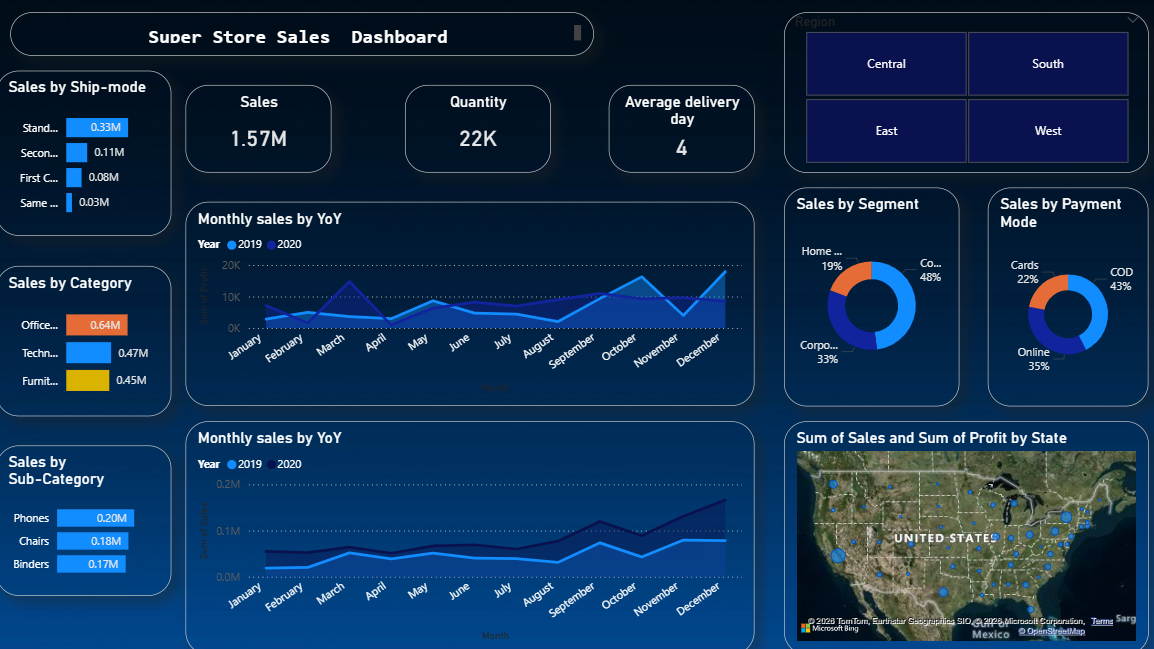

Layout of this report page (visuals, bound fields, positions):
{"tool":"powerbi","page":{"name":"Sales Dashboard","canvas":[1280,720],"ordinal":0},"visuals":[{"type":"clusteredBarChart","title":"Sales by Category","fields":{"Category":["SuperStore Sales DataSet.Category"],"Y":["Sum(SuperStore Sales DataSet.Sales)"]},"box":[0,293.9,192,164.6],"z":0,"group":"g1"},{"type":"clusteredBarChart","title":"Sales by Sub-Category","fields":{"Category":["SuperStore Sales DataSet.Sub-Category"],"Y":["Sum(SuperStore Sales DataSet.Sales)"]},"box":[0,491.4,192,164.6],"z":1000,"group":"g1"},{"type":"clusteredBarChart","title":"Sales by Ship-mode","fields":{"Category":["SuperStore Sales DataSet.Ship Mode"],"Y":["Sum(SuperStore Sales DataSet.Sales)"]},"box":[0,80,192,181],"z":2000,"group":"g1"},{"type":"areaChart","title":"Monthly sales by YoY","fields":{"Category":["SuperStore Sales DataSet.Order Date.Variation.Date Hierarchy.Month"],"Series":["SuperStore Sales DataSet.Order Date.Variation.Date Hierarchy.Year"],"Y":["Sum(SuperStore Sales DataSet.Sales)"]},"box":[208,464,624,256],"z":3000},{"type":"areaChart","title":"Monthly sales by YoY","fields":{"Category":["SuperStore Sales DataSet.Order Date.Variation.Date Hierarchy.Month"],"Series":["SuperStore Sales DataSet.Order Date.Variation.Date Hierarchy.Year"],"Y":["Sum(SuperStore Sales DataSet.Profit)"]},"box":[208,224,624,224],"z":4000},{"type":"map","fields":{"Category":["SuperStore Sales DataSet.State"],"Size":["Sum(SuperStore Sales DataSet.Sales)"]},"box":[864,464,400,256],"z":5000},{"type":"donutChart","title":"Sales by Segment","fields":{"Category":["SuperStore Sales DataSet.Segment"],"Y":["Sum(SuperStore Sales DataSet.Sales)"]},"box":[864,208,192,240],"z":6000},{"type":"donutChart","title":"Sales by Payment Mode","fields":{"Category":["SuperStore Sales DataSet.Payment Mode"],"Y":["Sum(SuperStore Sales DataSet.Sales)"]},"box":[1088,208,176,240],"z":7000},{"type":"textbox","box":[16,16,640,48],"z":8000},{"type":"slicer","fields":{"Values":["SuperStore Sales DataSet.Region"]},"box":[864,16,400,176],"z":9000},{"type":"card","title":"Sales","fields":{"Values":["Sum(SuperStore Sales DataSet.Sales)"]},"box":[208,96,160,96],"z":10000},{"type":"card","title":"Quantity","fields":{"Values":["Sum(SuperStore Sales DataSet.Quantity)"]},"box":[448,96,160,96],"z":11000},{"type":"card","title":"Average delivery day","fields":{"Values":["Avg(SuperStore Sales DataSet.AvdDelivery)"]},"box":[672,96,160,96],"z":12000},{"type":"group","id":"g1","title":"Group 2","box":[0,80,192,576],"z":12002}]}

Visuals, with their boxes in screenshot pixels (x1, y1, x2, y2), scaled from the page's 1280x720 canvas onto the 1154x649 screenshot:
"Sales by Category" clusteredBarChart: 0 265 173 413
"Sales by Sub-Category" clusteredBarChart: 0 443 173 591
"Sales by Ship-mode" clusteredBarChart: 0 72 173 235
"Monthly sales by YoY" areaChart: 188 418 750 648
"Monthly sales by YoY" areaChart: 188 202 750 404
map - SuperStore Sales DataSet.State x Sum(SuperStore Sales DataSet.Sales): 779 418 1140 648
"Sales by Segment" donutChart: 779 187 952 404
"Sales by Payment Mode" donutChart: 981 187 1140 404
textbox: 14 14 591 58
slicer - SuperStore Sales DataSet.Region: 779 14 1140 173
"Sales" card: 188 87 332 173
"Quantity" card: 404 87 548 173
"Average delivery day" card: 606 87 750 173
"Group 2" group: 0 72 173 591
